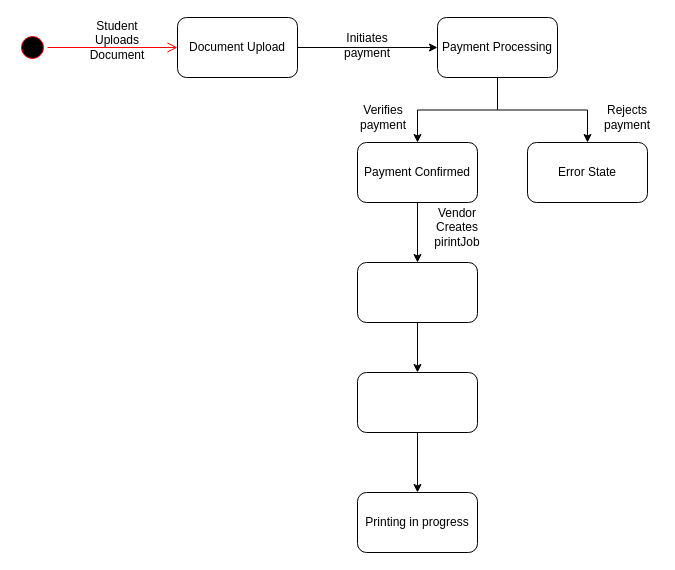
Image size: 675x570. Some labels were removed from this diagram. The centre of each missing label's shape, as x and y in pixels:
"Print Job Created" goes at point (417, 292).
"Queued for Printing" goes at point (417, 402).
